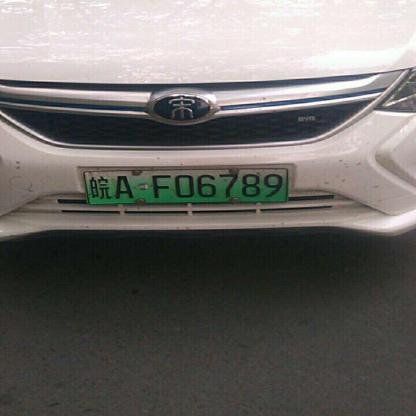lp: (85, 169, 287, 203)
